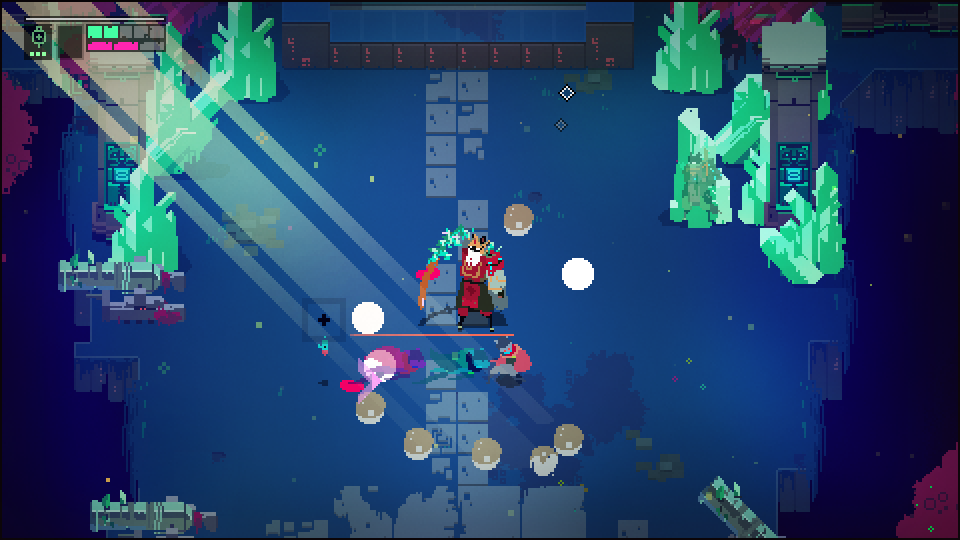hanged_man: (423, 229, 505, 320)
player: (488, 339, 527, 380)
